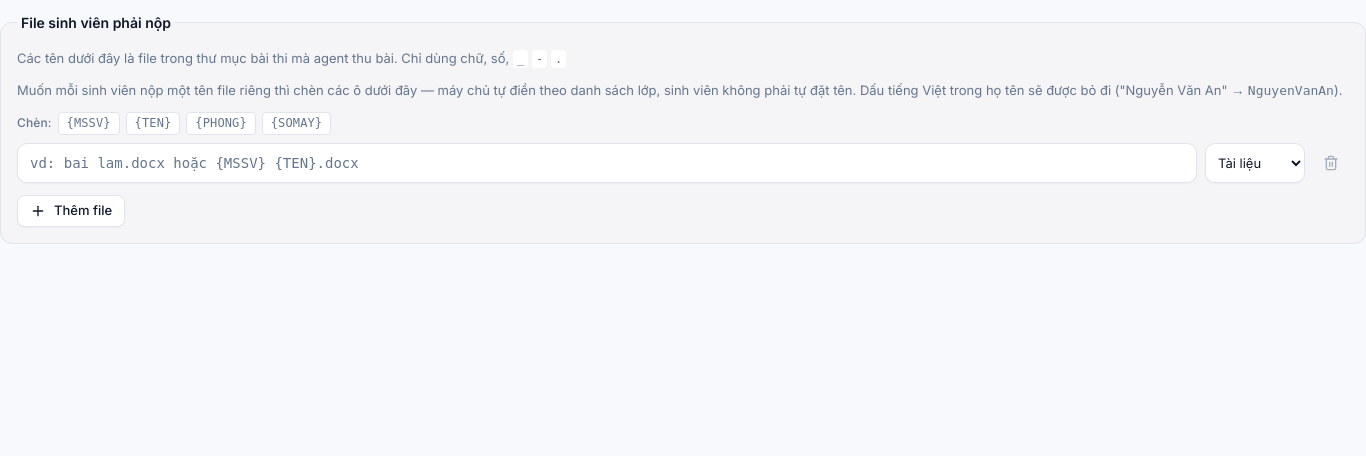
Test: RequiredFilenamesInput — cảnh báo .rar cần WinRAR › sửa từ .rar sang tên khác thì cảnh báo biến mất
This screenshot has width=1366, height=456.
In the field with placeholder "vd: bai_lam.docx hoặc {MSSV}_{TEN}.docx": (607, 163) [17,143,1197,183], type "BaiThi.rar"
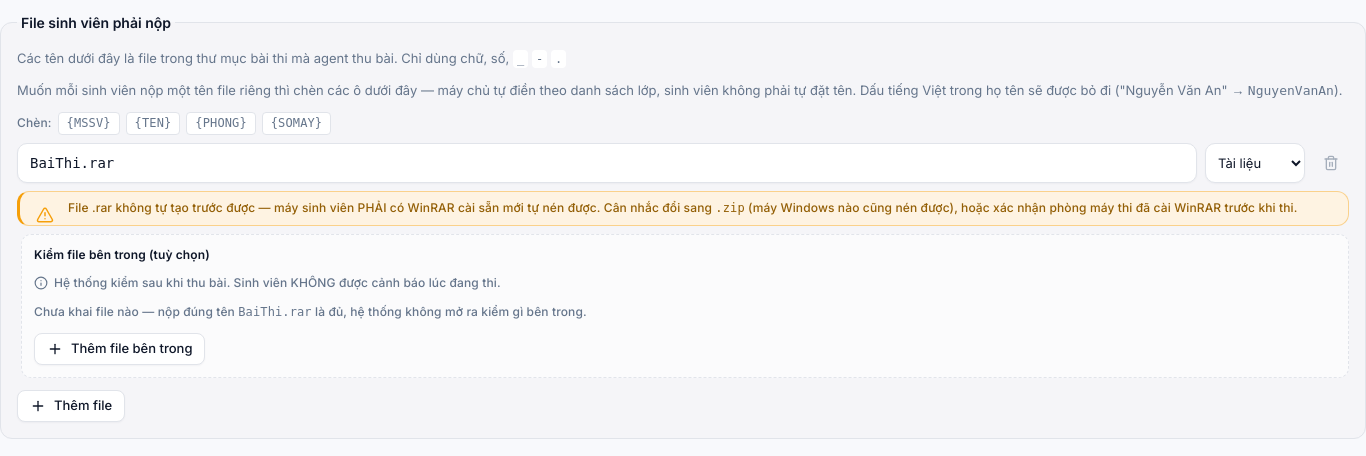
expect the text "WinRAR" is shown: met, box [68,200,712,215]
Replace the text in the field with placeholder "vd: bai_lam.docx hoặc {MSSV}_{TEN}.docx" with "BaiThi.zip": (607, 163) [17,143,1197,183]
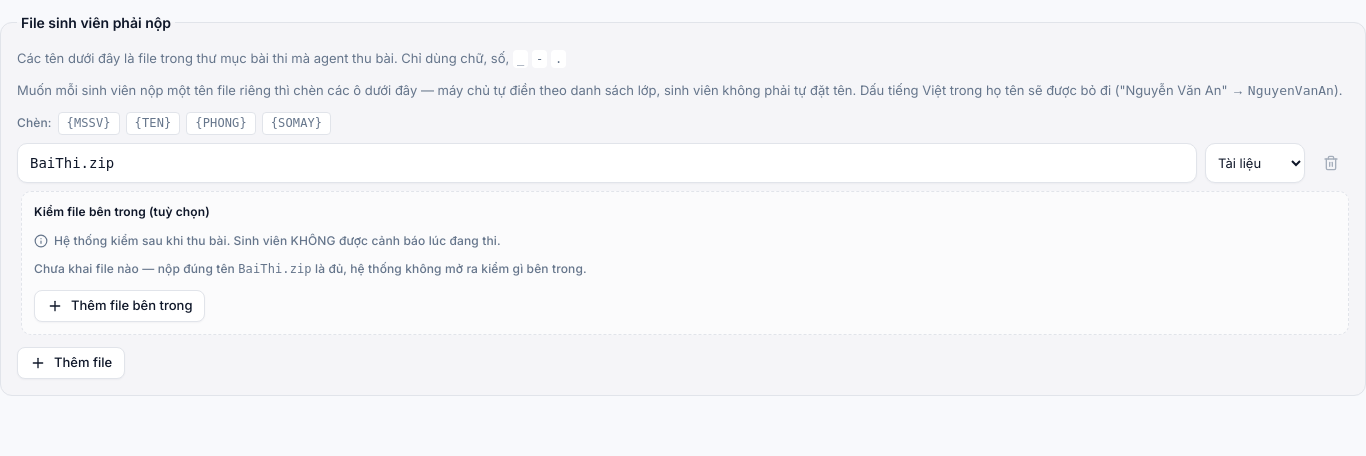
expect the text "WinRAR" is gone: met
